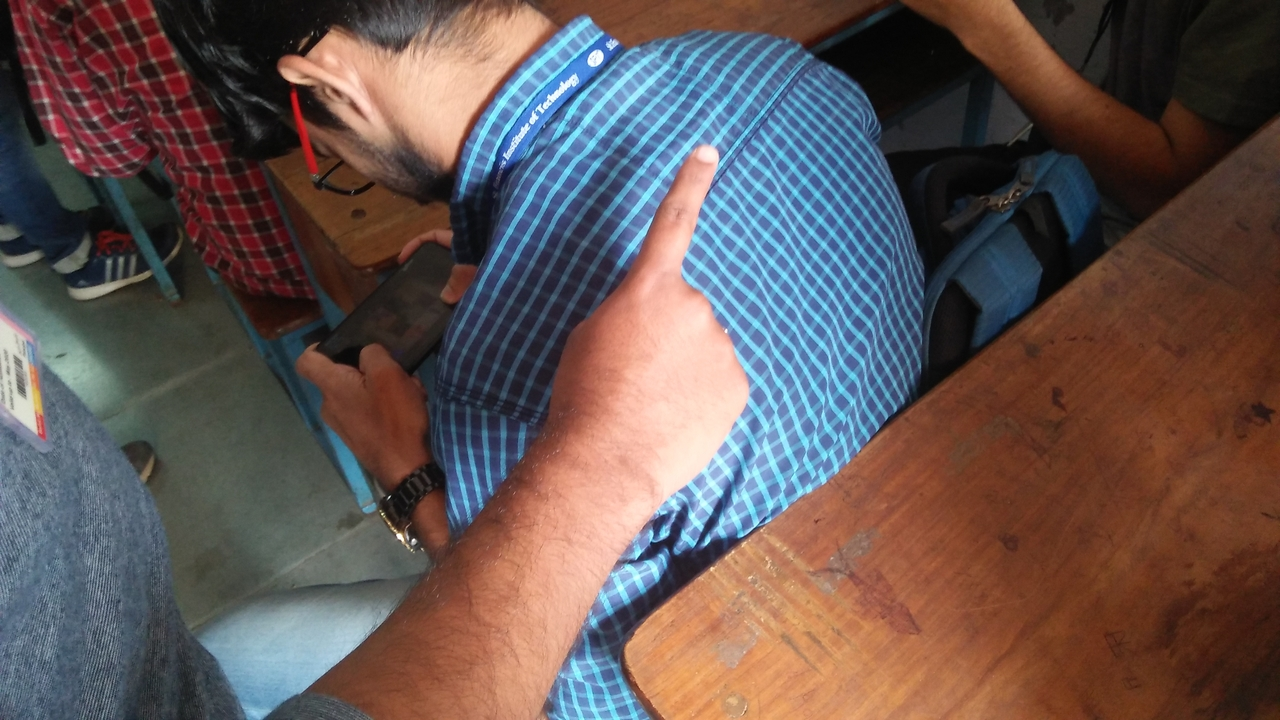fingertip: (664, 136, 720, 186)
